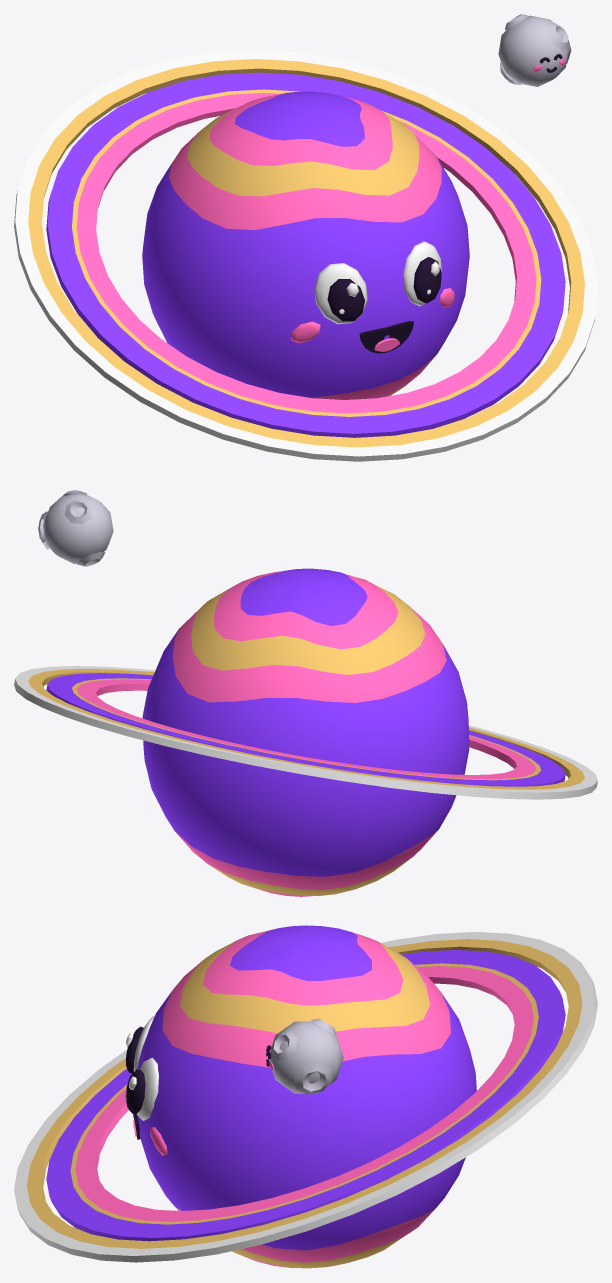
File: planet.glb
3 views of the same model, one above another, from view 1: azimuth 30°, elevation 25°; view 2: azimuth 150°, elevation 25°; view 3: azimuth 270°, elevation 25° (orthographic). The views are drawn at different scales.
Parts seen in each view (by area): view 1: ring, planet, moon; view 2: planet, ring, moon; view 3: planet, ring, moon.
Boxes of the visible parts, box(x1,y1,x2,y2) form: ring: box(14, 50, 597, 461); planet: box(142, 91, 469, 399); moon: box(498, 14, 571, 86); planet: box(142, 568, 469, 896); ring: box(14, 666, 597, 799); moon: box(38, 490, 113, 566); planet: box(125, 925, 476, 1268); ring: box(14, 932, 597, 1262); moon: box(266, 1018, 343, 1094).
Size of the model in its own units: 3.64 by 2.22 by 3.4.
